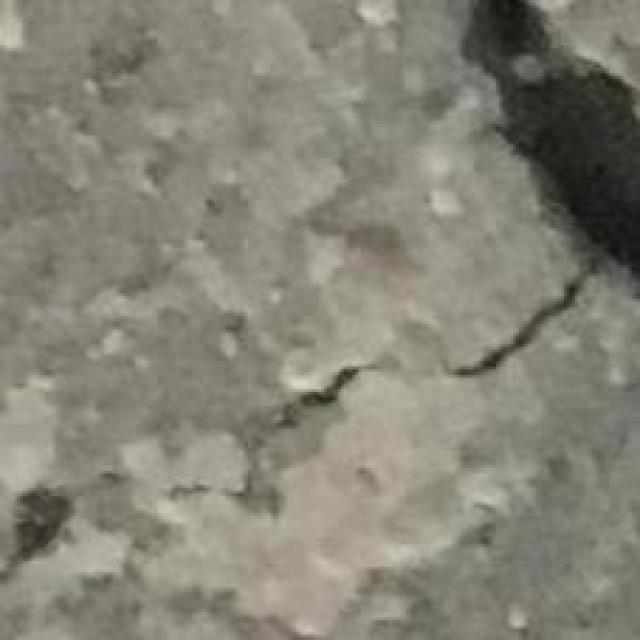Crack: (456, 0, 637, 290), (158, 358, 369, 516), (442, 257, 598, 372), (0, 482, 70, 583)
